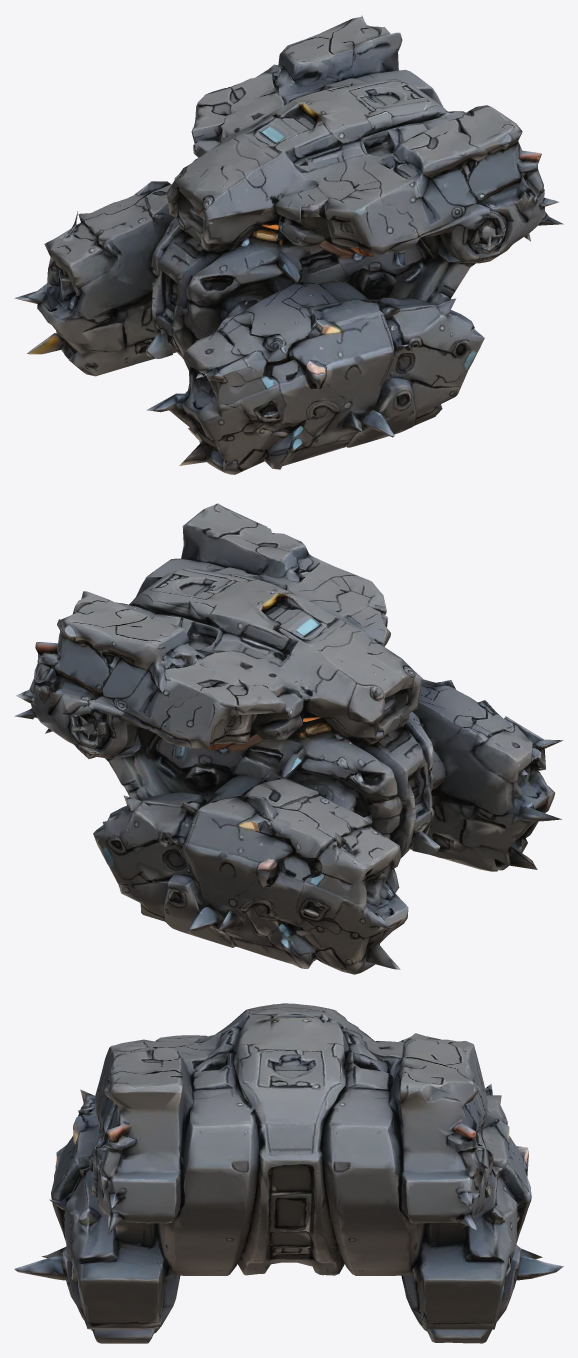
File: enemy_sentinel.glb
The picture shows the model from 3 angles, top to bottom: view 1: azimuth 30°, elevation 25°; view 2: azimuth 150°, elevation 25°; view 3: azimuth 270°, elevation 25°; orthographic projection. The views are drawn at different scales.
Visible parts, largest first — view 1: tripo_node_18d52221-2b01-4464-b5d3-672bba6a1833; view 2: tripo_node_18d52221-2b01-4464-b5d3-672bba6a1833; view 3: tripo_node_18d52221-2b01-4464-b5d3-672bba6a1833.
Boxes of the visible parts, x1,y1,x2,y2 form: tripo_node_18d52221-2b01-4464-b5d3-672bba6a1833: (14,15,563,474); tripo_node_18d52221-2b01-4464-b5d3-672bba6a1833: (14,503,563,974); tripo_node_18d52221-2b01-4464-b5d3-672bba6a1833: (14,1003,563,1343).
Size of the model in its own units: 0.9789 by 0.6632 by 0.9991.
1 material, 1 textured.
